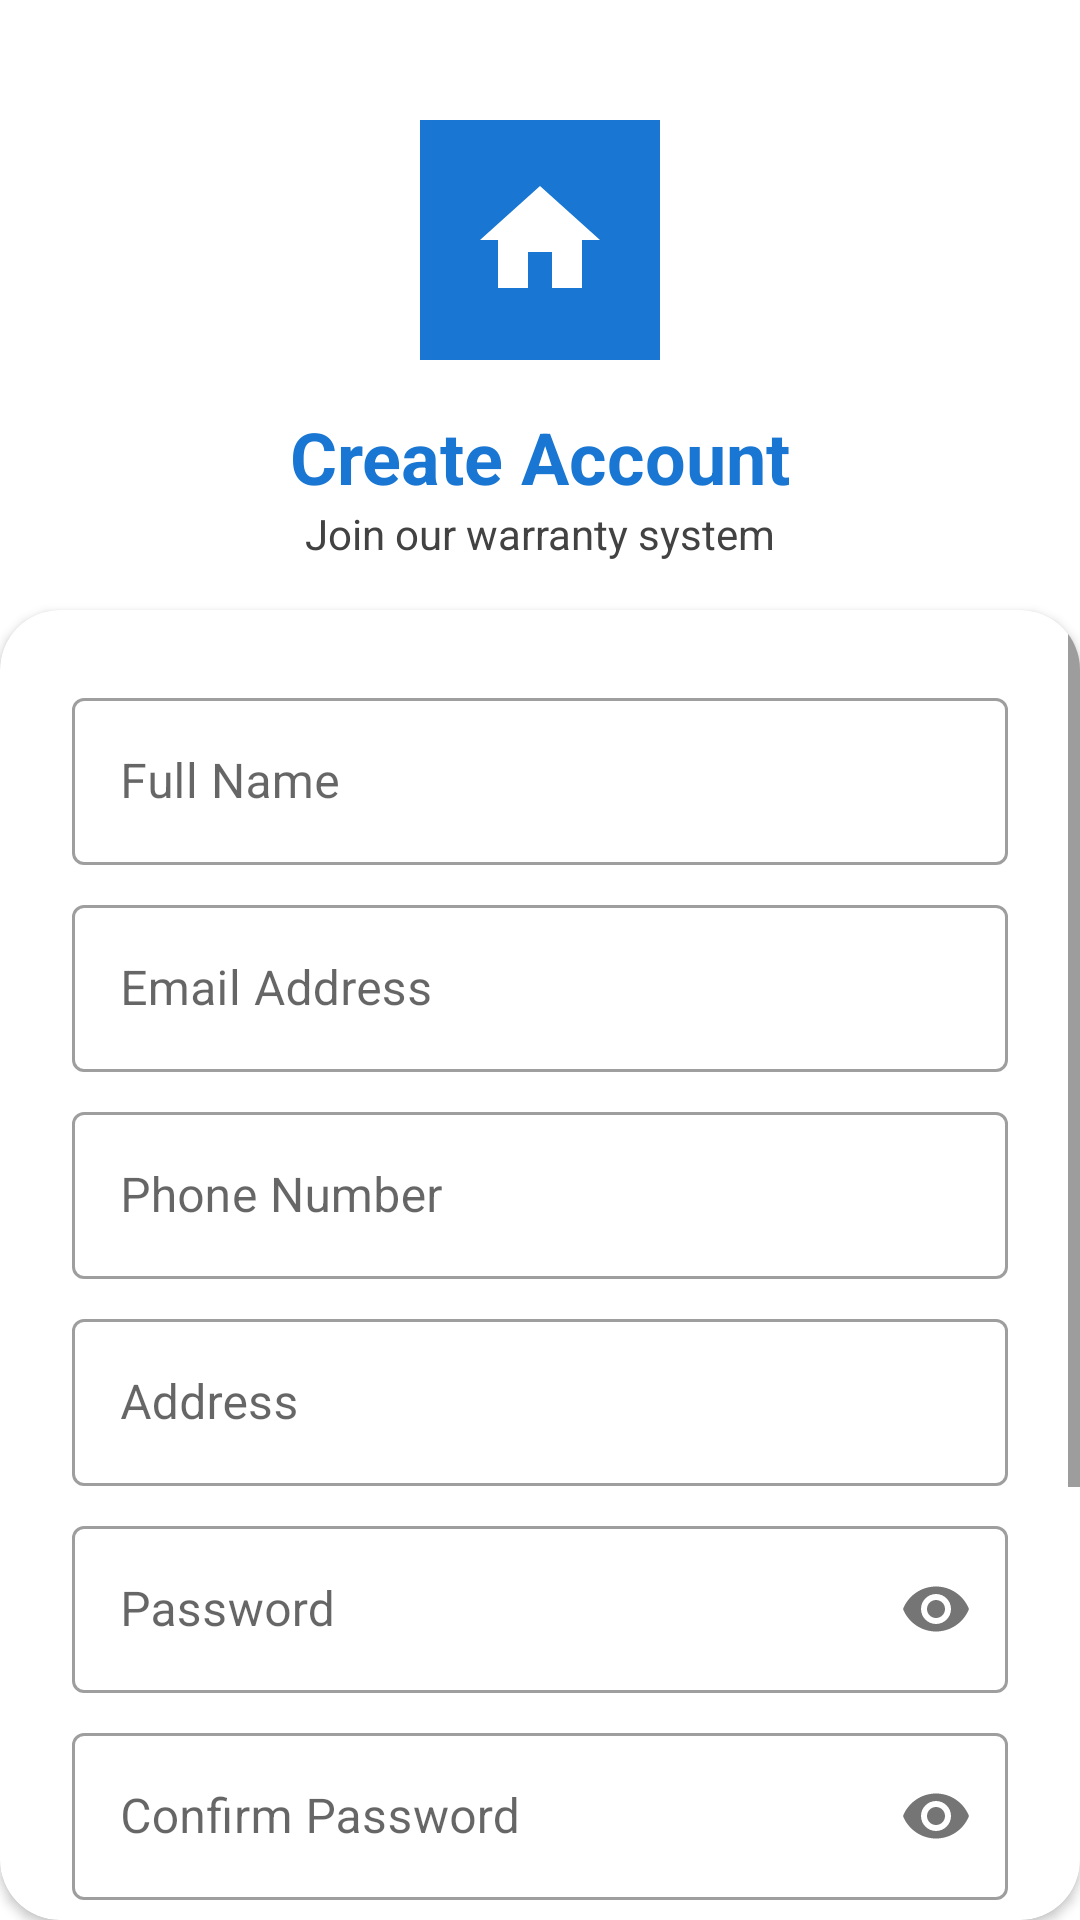

Icon bounding boxes for this 1080px x 1920px phone screenshot, format (x1, y1, x2, y2):
home: (420, 120, 660, 360)
